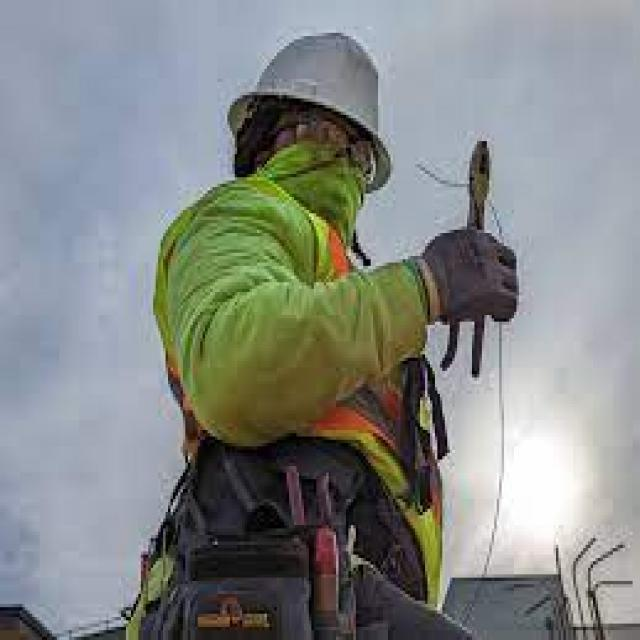reflective_jacket: (135, 187, 464, 633)
safety_helmet: (215, 19, 410, 183)
